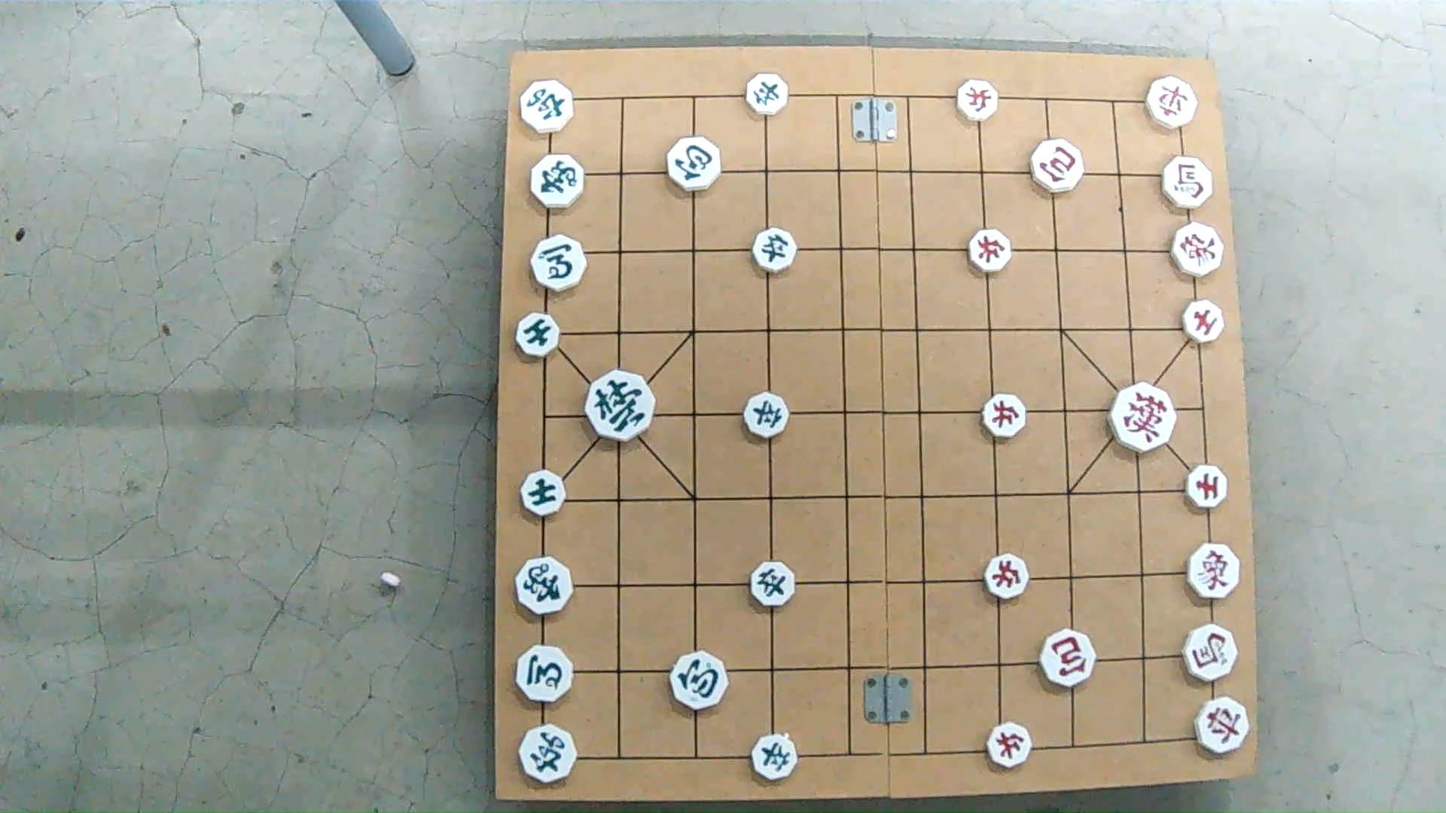cha_green: (519, 723, 579, 783), (520, 80, 575, 132)
cha_red: (1191, 697, 1251, 752), (1146, 75, 1200, 125)
jol_green: (743, 391, 792, 441), (751, 737, 799, 783), (752, 562, 798, 604), (755, 229, 799, 271), (743, 75, 787, 115)
jol_red: (986, 556, 1031, 599), (989, 723, 1033, 766), (984, 395, 1029, 437), (970, 230, 1014, 271), (955, 81, 999, 121)
ma_green: (513, 645, 575, 705), (533, 235, 590, 288)
ma_red: (1182, 626, 1240, 678), (1159, 159, 1212, 209)
po_green: (670, 653, 731, 711), (667, 139, 721, 190)
po_red: (1036, 632, 1094, 687), (1028, 140, 1081, 190)
sa_green: (521, 472, 567, 516), (513, 315, 562, 353)
sa_red: (1183, 301, 1227, 340), (1189, 466, 1228, 507)
sang_green: (512, 557, 575, 615), (529, 157, 585, 209)
sang_red: (1186, 547, 1241, 600), (1173, 223, 1223, 274)
wang_green: (589, 373, 657, 437)
wang_red: (1110, 385, 1175, 449)
